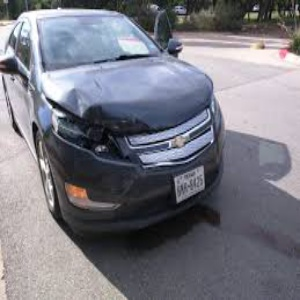bonnet: (62, 88, 154, 132)
